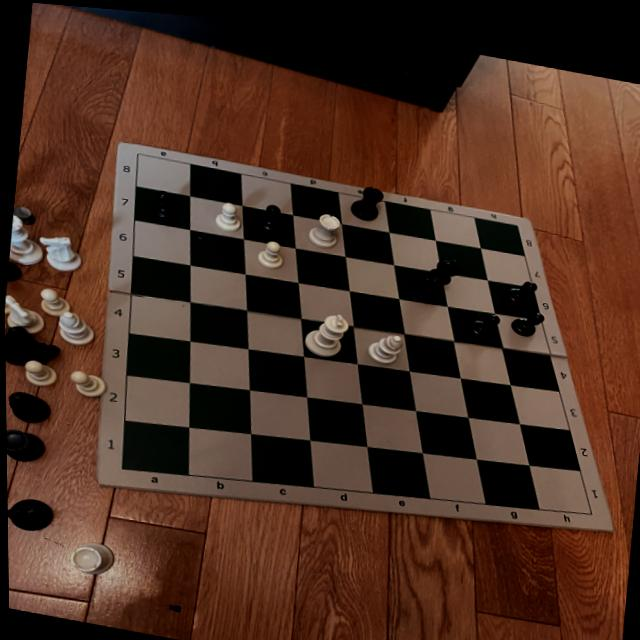Chessboard-Corners: (113, 459, 134, 473), (510, 212, 526, 224), (581, 499, 596, 510), (132, 148, 147, 159)
